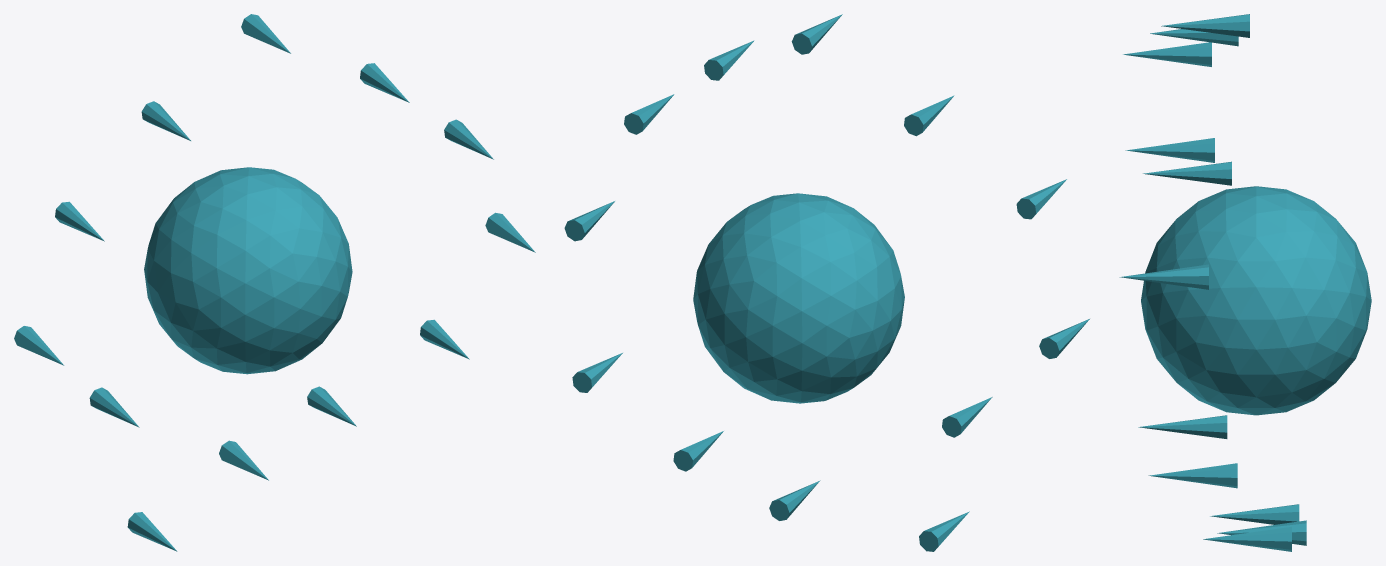
The model's file is sport_106.glb.
3 renders of one model, left to right at view 1: azimuth 30°, elevation 25°; view 2: azimuth 150°, elevation 25°; view 3: azimuth 270°, elevation 25°, orthographic. The views are drawn at different scales.
Parts seen in each view (by area): view 1: world; view 2: world; view 3: world.
Part boxes in pixels (box(x1,y1,x2,y2)): world: box(14, 14, 535, 551); world: box(564, 14, 1089, 551); world: box(1119, 14, 1371, 551).
Size of the model in its own units: 2.44 by 2.31 by 0.9845.
